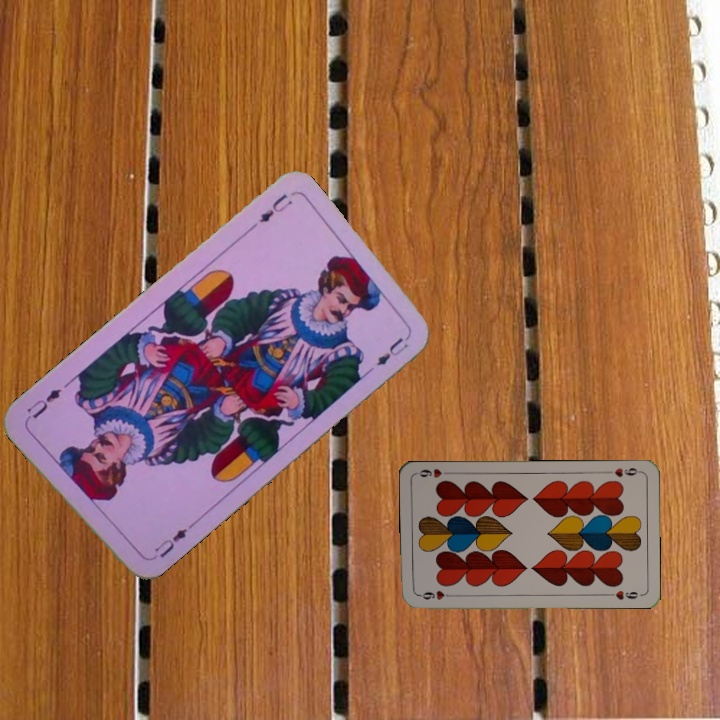EU: (143, 522, 193, 564), (255, 189, 295, 226)
H9: (603, 464, 643, 480), (415, 587, 455, 602)
